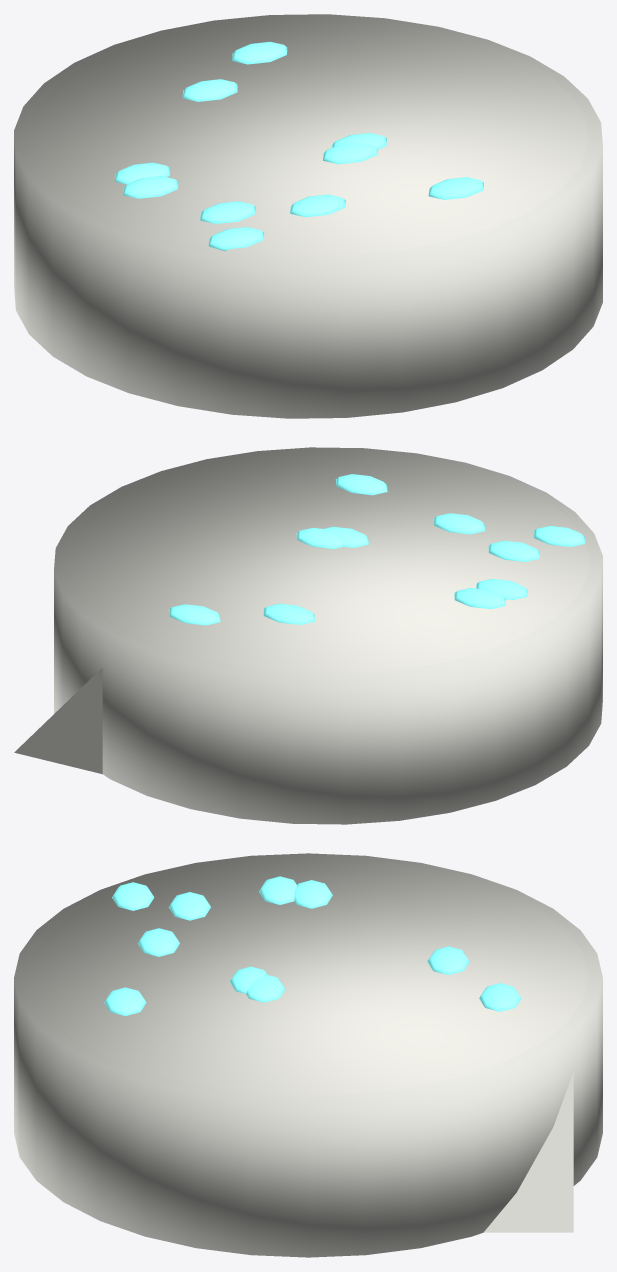
The model's file is world_cheese_blue.glb.
3 views of the same model, one above another, from view 1: azimuth 30°, elevation 25°; view 2: azimuth 150°, elevation 25°; view 3: azimuth 270°, elevation 25° (orthographic). The views are drawn at different scales.
Parts seen in each view (by area): view 1: world_cheese_blue; view 2: world_cheese_blue; view 3: world_cheese_blue.
Part boxes in pixels (left/top/right/bottom): world_cheese_blue: left=14, top=14, right=602, bottom=418; world_cheese_blue: left=14, top=447, right=602, bottom=824; world_cheese_blue: left=14, top=853, right=602, bottom=1257.
Size of the model in its own units: 1.1 by 0.34 by 1.1.
